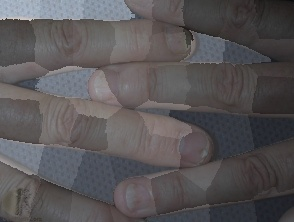Nail_psoriasis: (162, 22, 195, 59), (119, 185, 151, 217), (90, 68, 117, 104), (191, 137, 216, 170)
